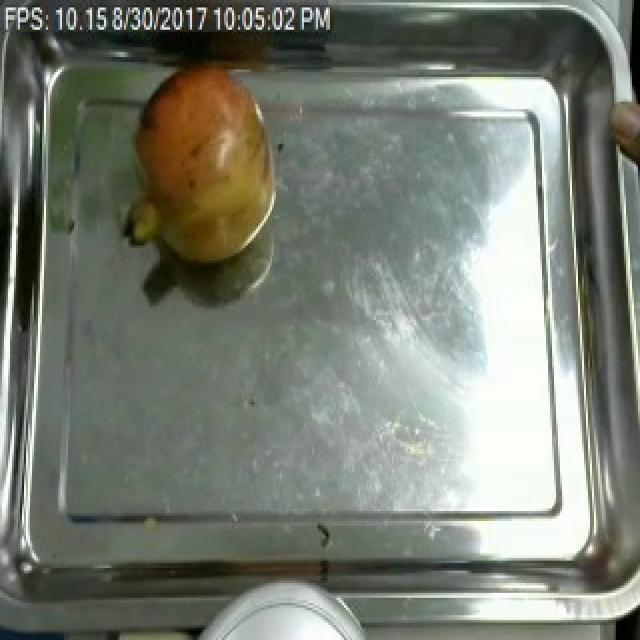fruit: (124, 57, 284, 273), (606, 89, 640, 184)
